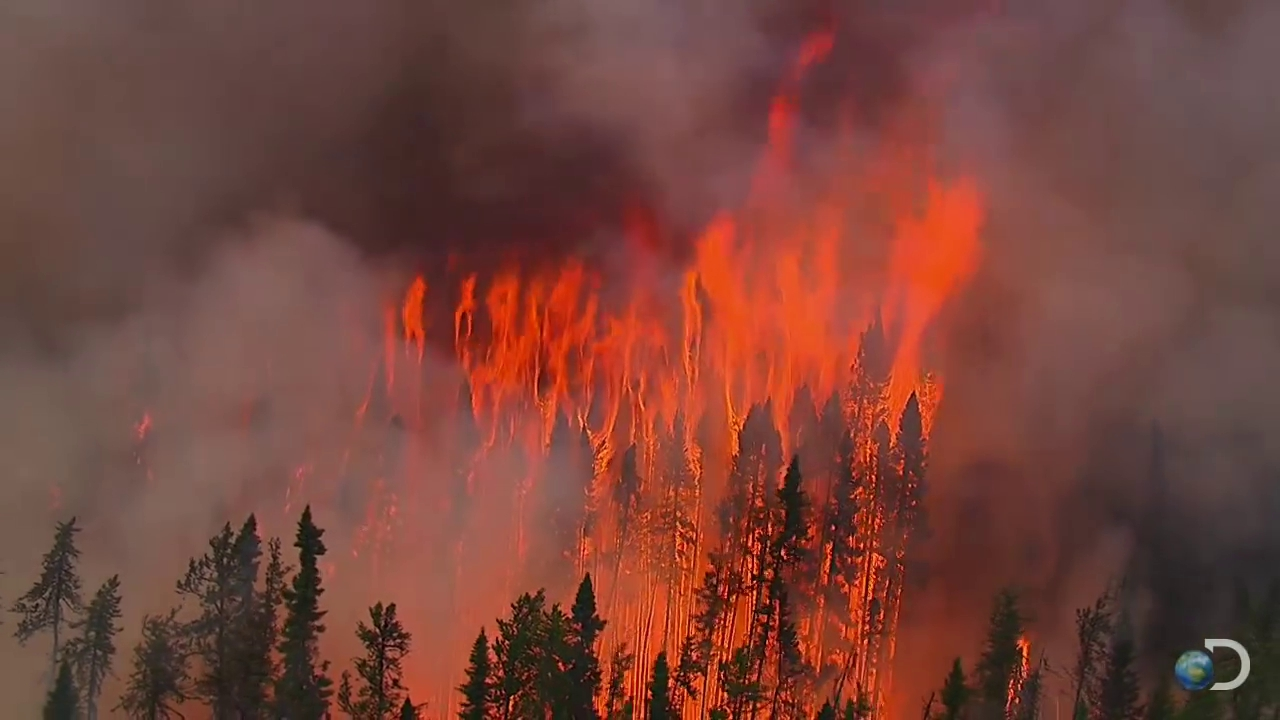forest_fire: (11, 31, 984, 719)
